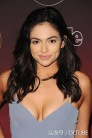female: (24, 10, 68, 75)
